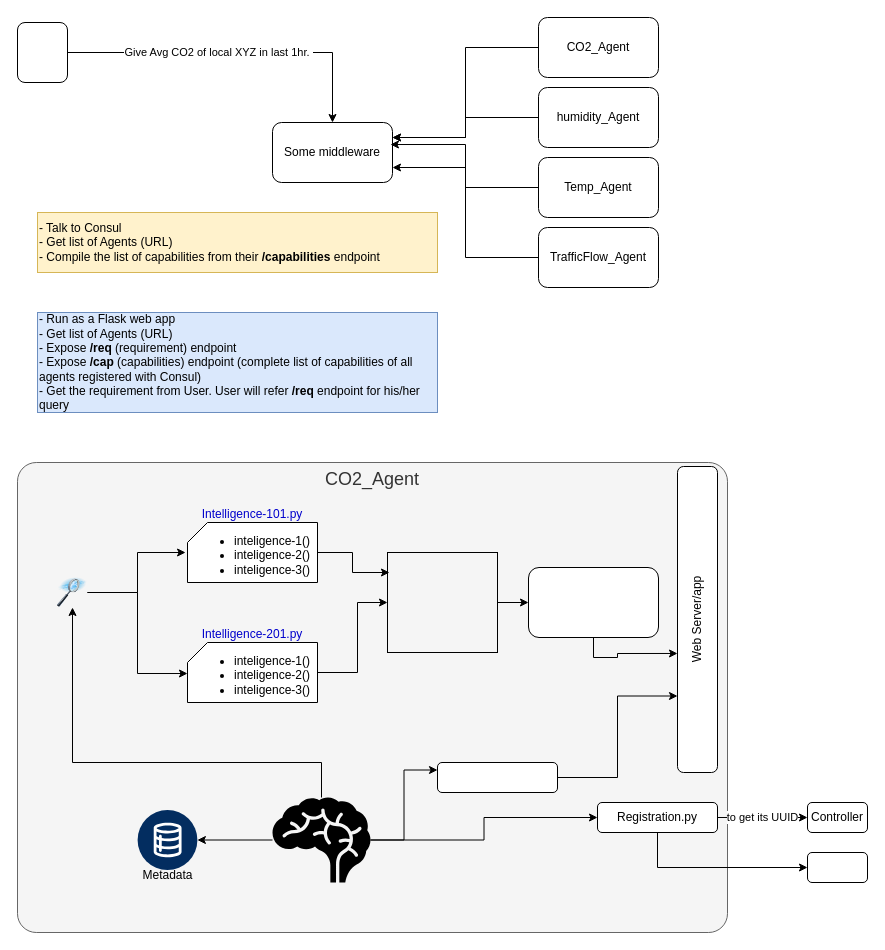
Some shapes in this 885 by 950 pixel diagram are drawn without their labels. The shapes that lost their labels are listed below. From the top down, each one's box as (x1, y1, x2, y2) in pixels, then its label:
(16, 22, 68, 82): USer
(57, 577, 87, 607): Data
(386, 552, 498, 652): intelligence.json { ... ... ... }
(528, 566, 658, 638): expose_inetlligence.py (localhost:port)
(436, 762, 558, 792): Requiremnts.py
(272, 797, 370, 882): Agent's brain (e.g. CO2_agent.py )
(806, 852, 868, 882): Consul
